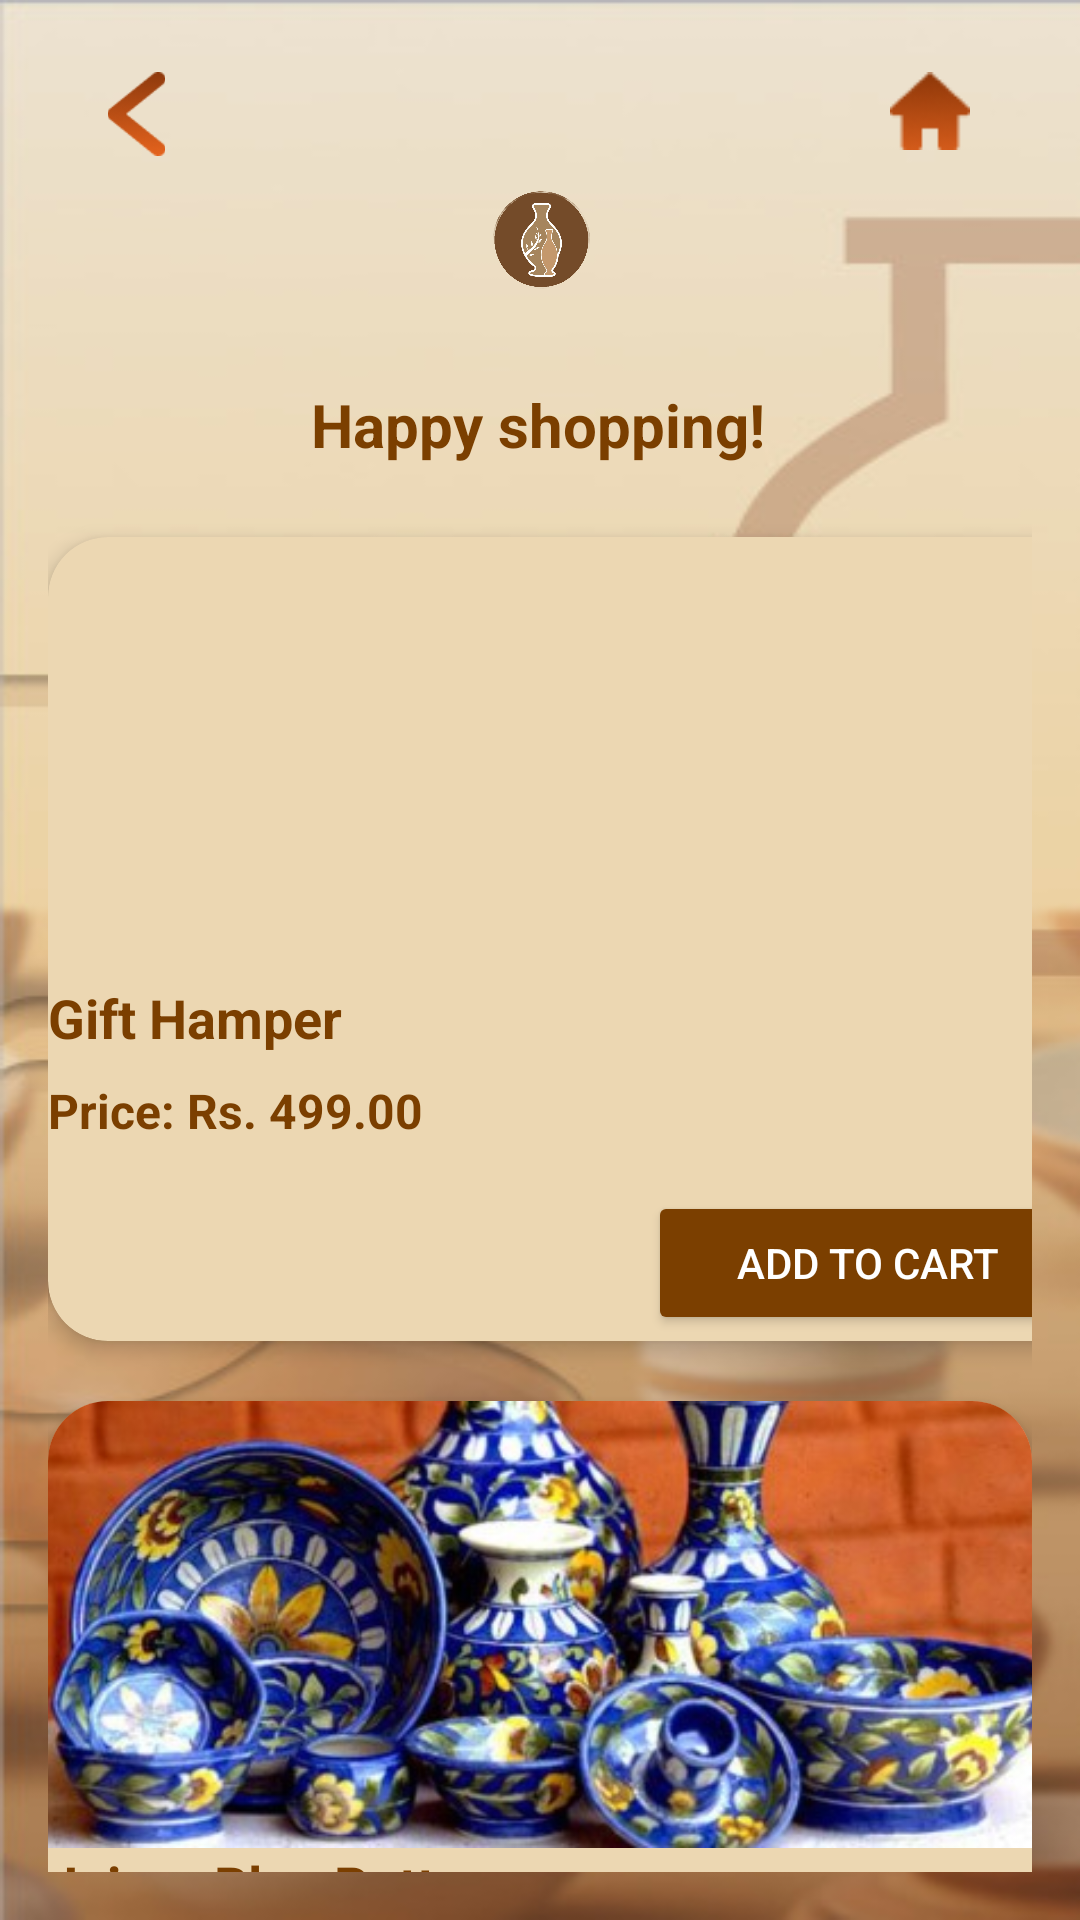

Named icons in this screenshot (1080x1920) and their centers, [x,y]:
arrow: [136,114]
home: [930,111]
